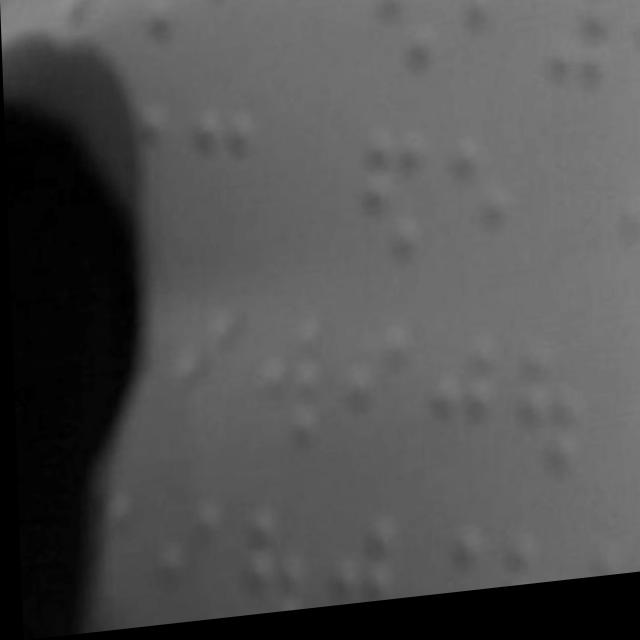braiile: (413, 333, 499, 493), (183, 102, 263, 274), (350, 126, 429, 299), (160, 300, 244, 462), (243, 315, 326, 472), (435, 140, 515, 301), (332, 321, 413, 477), (507, 347, 584, 501), (147, 493, 224, 628), (539, 0, 623, 108), (229, 510, 305, 621), (458, 0, 532, 112), (368, 0, 445, 95)
